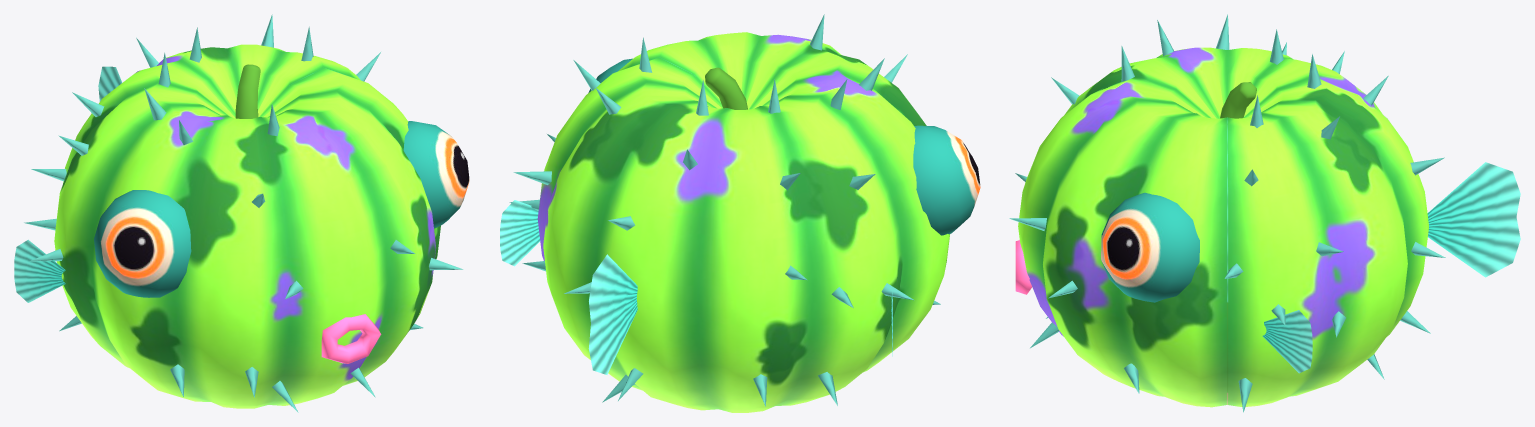
Rendered from pufferfish.glb.
3 renders of one model, left to right at view 1: azimuth 30°, elevation 25°; view 2: azimuth 150°, elevation 25°; view 3: azimuth 270°, elevation 25°, orthographic. The views are drawn at different scales.
Visible parts, largest first — view 1: pufferfish, fin_L, tail; view 2: pufferfish, tail, fin_R; view 3: pufferfish, tail, fin_R.
Part boxes in pixels (x1,y1,x2,y2): pufferfish: (24, 14, 469, 412); fin_L: (14, 239, 65, 302); tail: (98, 66, 122, 101); pufferfish: (509, 14, 980, 412); tail: (588, 254, 637, 374); fin_R: (500, 200, 540, 266); pufferfish: (1009, 14, 1445, 412); tail: (1427, 162, 1520, 277); fin_R: (1262, 310, 1312, 373).
Size of the model in its own units: 0.538 by 0.4213 by 0.6206.
Materials: 2 (2 with a texture image).
